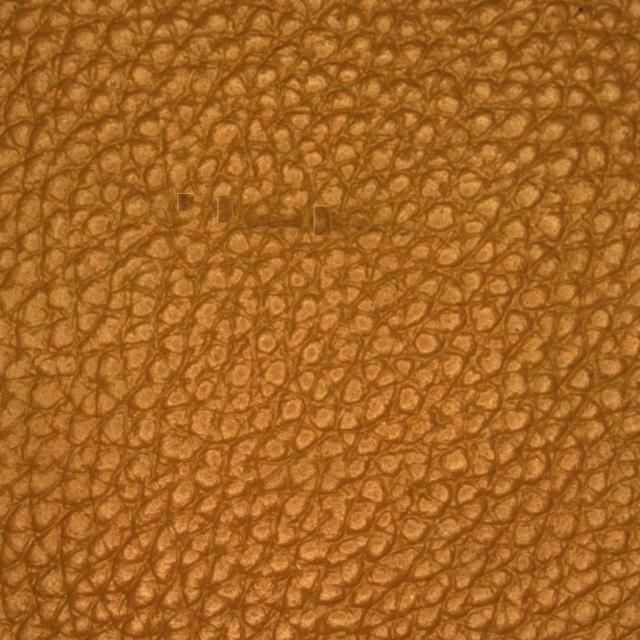Healed Injury: (190, 88, 402, 256)
